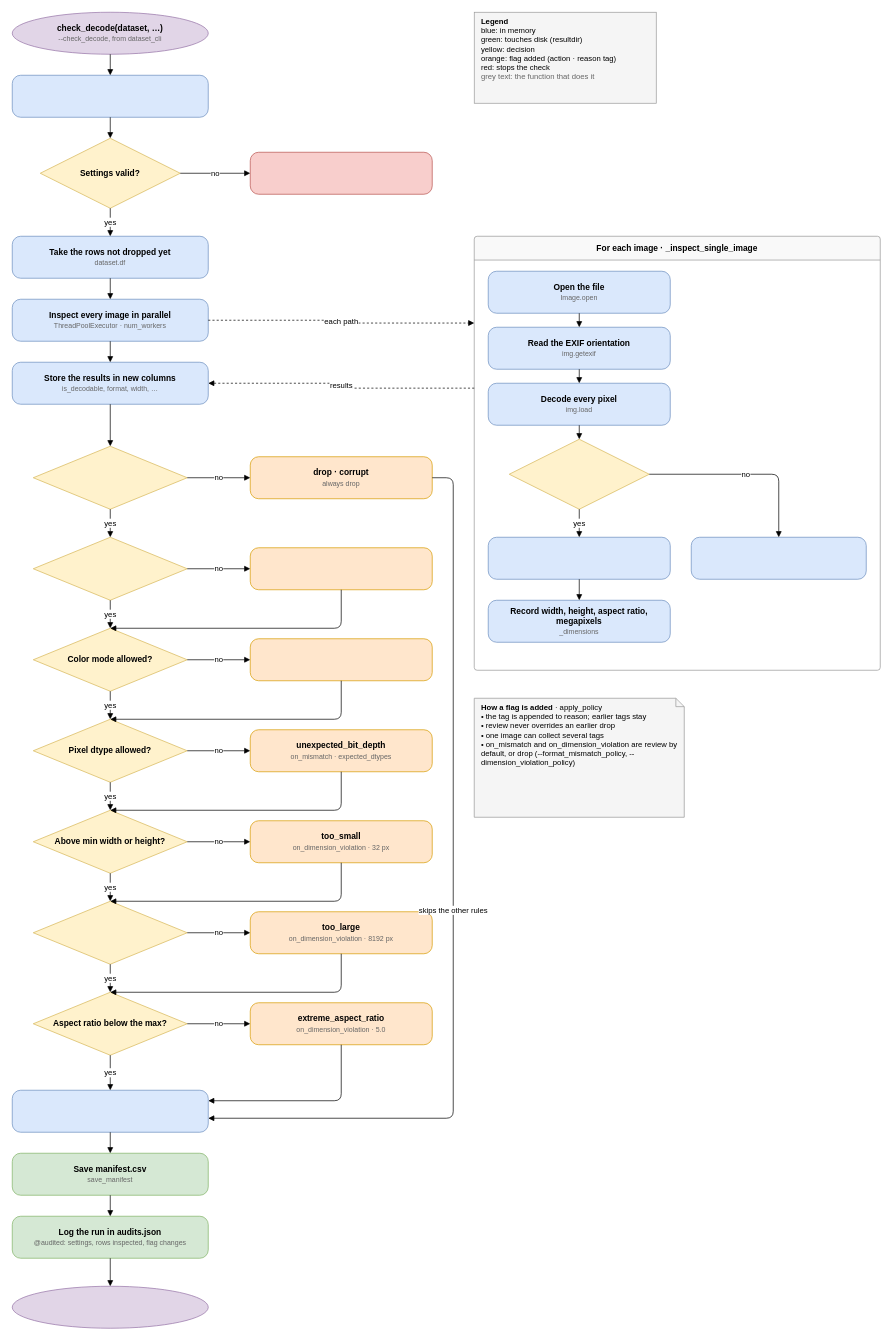
This 893x1341 diagram has some shape labels left out. Each missing label, with the box of its shape:
Back to dataset_cli returns the checked rows: (12, 1286, 208, 1328)
Below max width or height?: (33, 901, 187, 964)
Copy the checked rows back into the full manifest write_back: (12, 1090, 208, 1132)
Could be decoded?: (33, 446, 187, 509)
Note the settings and start time @audited: (12, 75, 208, 117)
Opened and decoded?: (509, 439, 649, 509)
Record format, color mode, channels, dtype, bit depth, alpha DecodeResult: (488, 537, 670, 579)
Record the error; mark it undecodable DecodeResult.failed: (691, 537, 866, 579)
review · exif_rotated always review: (250, 547, 432, 590)
Rotated by EXIF? (orientation == 1): (33, 537, 187, 600)
Stop with ValueError run is logged as failed: (250, 152, 432, 194)
unexpected_color_mode on_mismatch · expected_modes: (250, 638, 432, 681)
